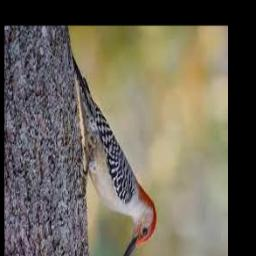Woodpecker: (71, 53, 157, 256)
